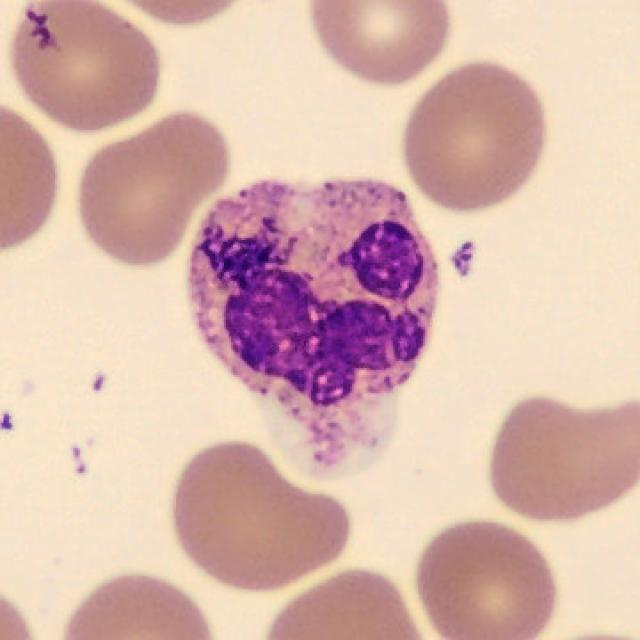Neutrofilo segmentado: (188, 180, 439, 468)
